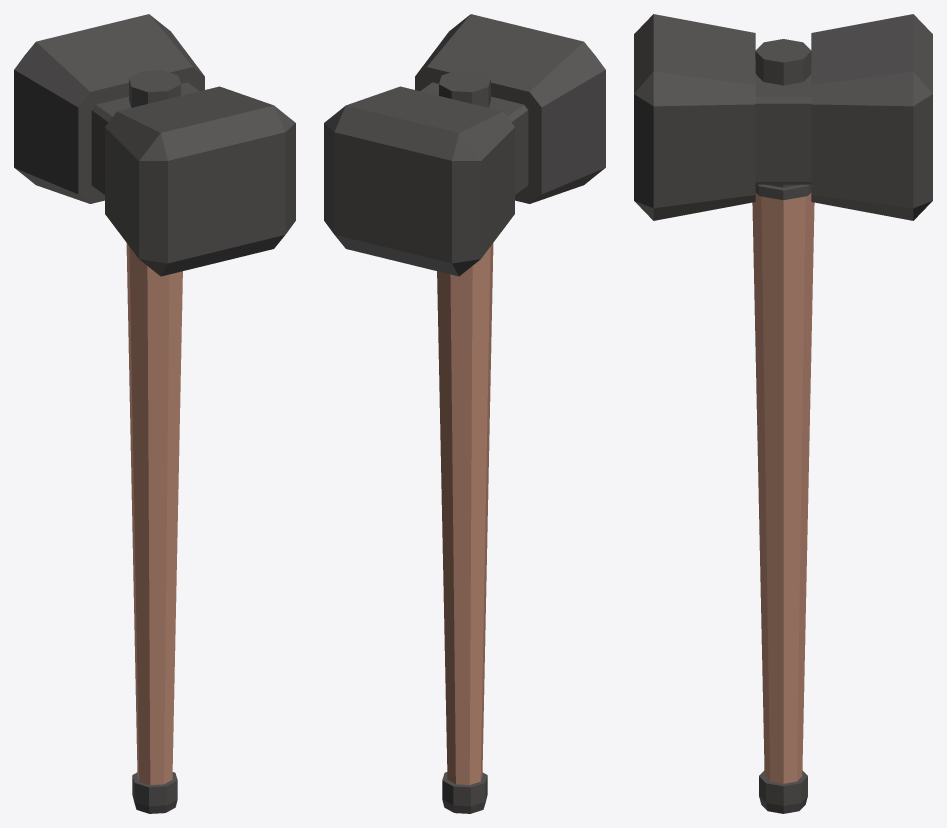
File: Two-Handed Hammer.glb
3 views of the same model, side by side, from view 1: azimuth 30°, elevation 25°; view 2: azimuth 150°, elevation 25°; view 3: azimuth 270°, elevation 25° (orthographic). The views are drawn at different scales.
Visible parts, largest first — view 1: Two-Handed Hammer; view 2: Two-Handed Hammer; view 3: Two-Handed Hammer.
Boxes of the visible parts, x1,y1,x2,y2 form: Two-Handed Hammer: [14, 14, 295, 813]; Two-Handed Hammer: [324, 14, 605, 813]; Two-Handed Hammer: [634, 14, 932, 813].
Bounding box in the file's own units: 0.137 × 0.6109 × 0.2173.
